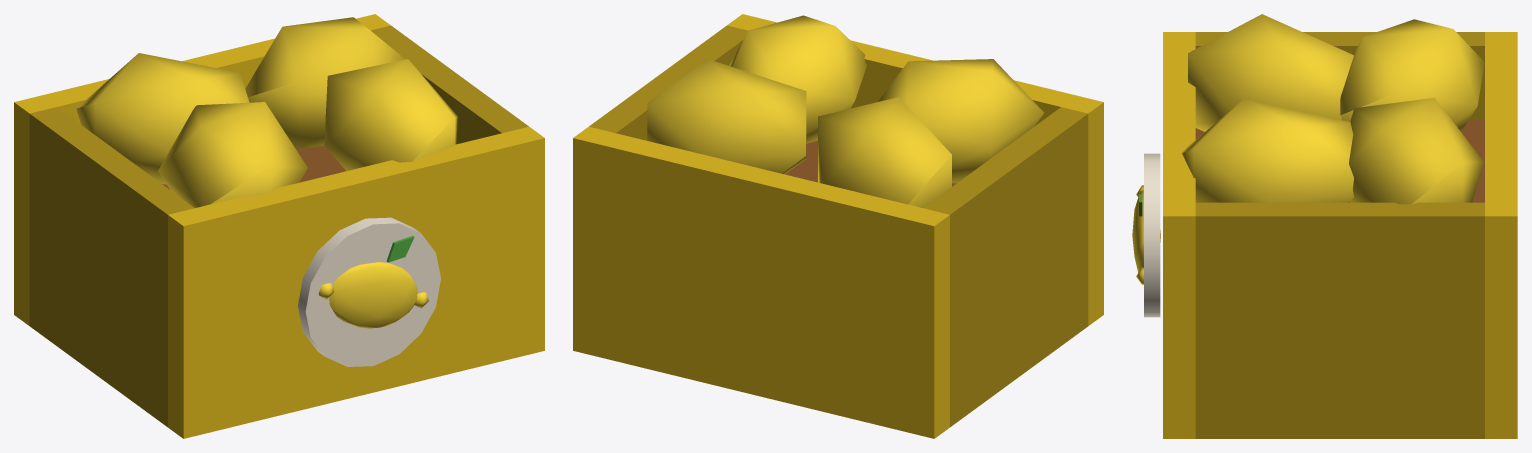
The model's file is fruit_box_lemon.glb.
The picture shows the model from 3 angles, left to right: view 1: azimuth 30°, elevation 25°; view 2: azimuth 150°, elevation 25°; view 3: azimuth 270°, elevation 25°; orthographic projection. The views are drawn at different scales.
Visible parts, largest first — view 1: pv3_fruit_box_lemon; view 2: pv3_fruit_box_lemon; view 3: pv3_fruit_box_lemon.
Part boxes in pixels (x1=…): pv3_fruit_box_lemon: x1=14, y1=14, x2=544, y2=438; pv3_fruit_box_lemon: x1=573, y1=14, x2=1103, y2=438; pv3_fruit_box_lemon: x1=1132, y1=14, x2=1517, y2=438.
Bounding box in the file's own units: 0.16 × 0.1106 × 0.1413.
